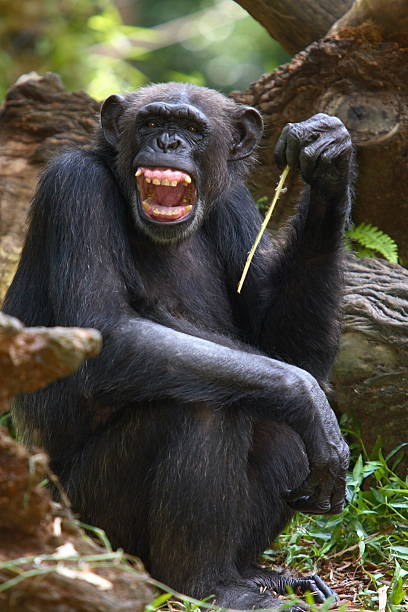chimpanzee: (78, 66, 272, 273)
